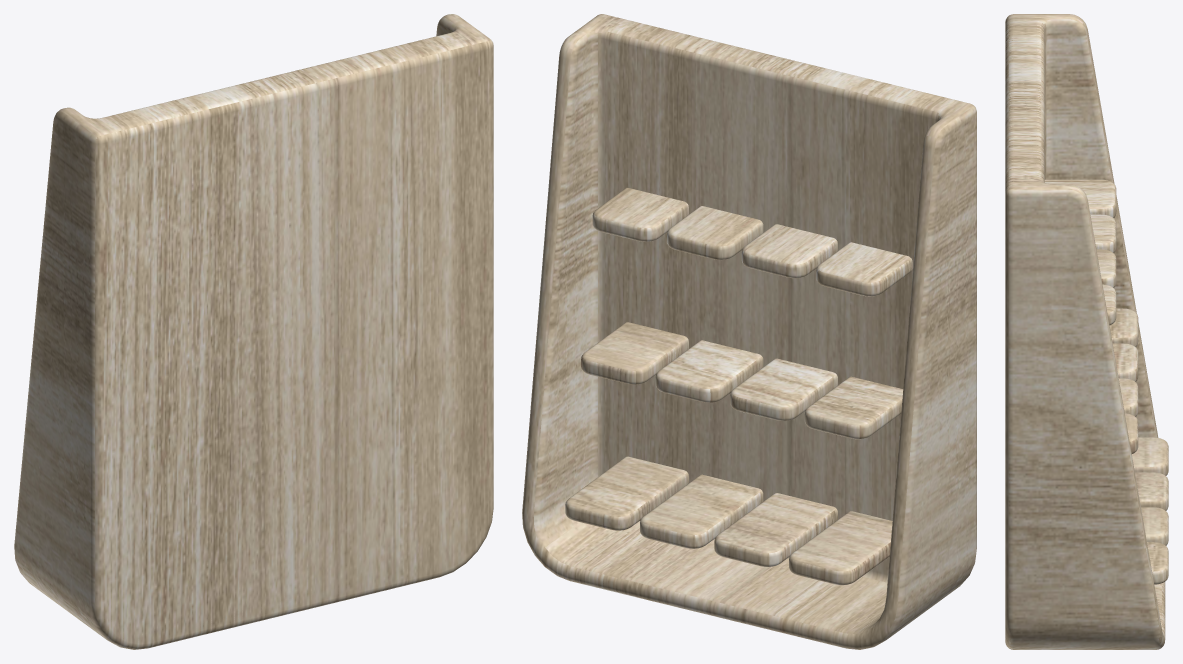
The model's file is telefonTezgah.fbx.
3 renders of one model, left to right at view 1: azimuth 30°, elevation 25°; view 2: azimuth 150°, elevation 25°; view 3: azimuth 270°, elevation 25°, orthographic. The views are drawn at different scales.
Visible parts, largest first — view 1: telefonTezgah.001; view 2: telefonTezgah.001; view 3: telefonTezgah.001.
Boxes of the visible parts, x1,y1,x2,y2 form: telefonTezgah.001: (14,14,493,649); telefonTezgah.001: (522,14,976,649); telefonTezgah.001: (1005,14,1168,649).
Bounding box in the file's own units: 711 × 892 × 275.
